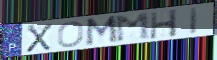H: (149, 8, 179, 40)
I: (188, 6, 200, 36)
M: (113, 11, 152, 44), (85, 14, 119, 48)
O: (56, 21, 85, 49)
X: (25, 22, 54, 54)
